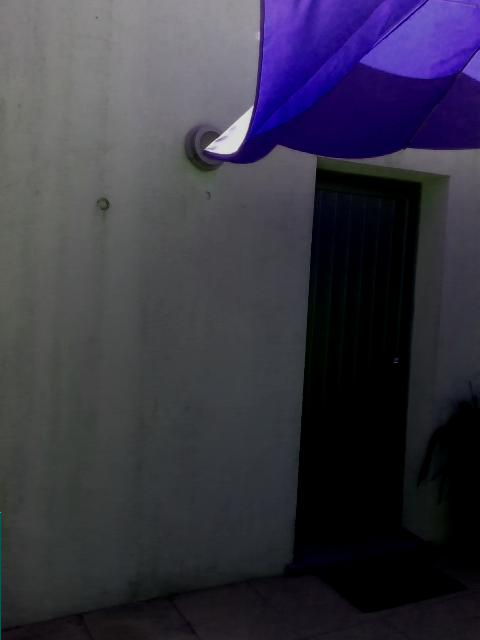closed_door: (293, 167, 420, 540)
